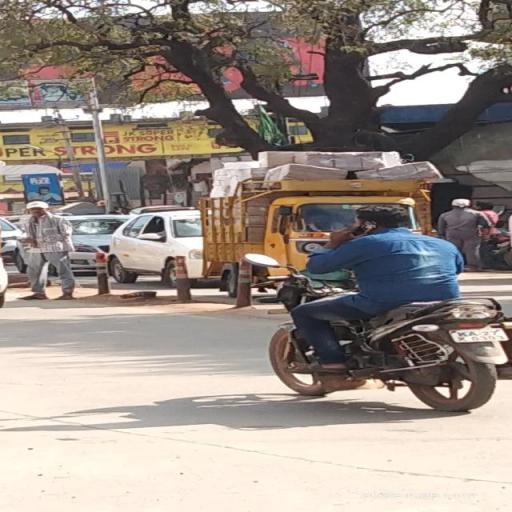bike: (236, 184, 512, 414)
numberplate: (447, 327, 512, 343)
withouthelmet: (358, 204, 411, 232)
